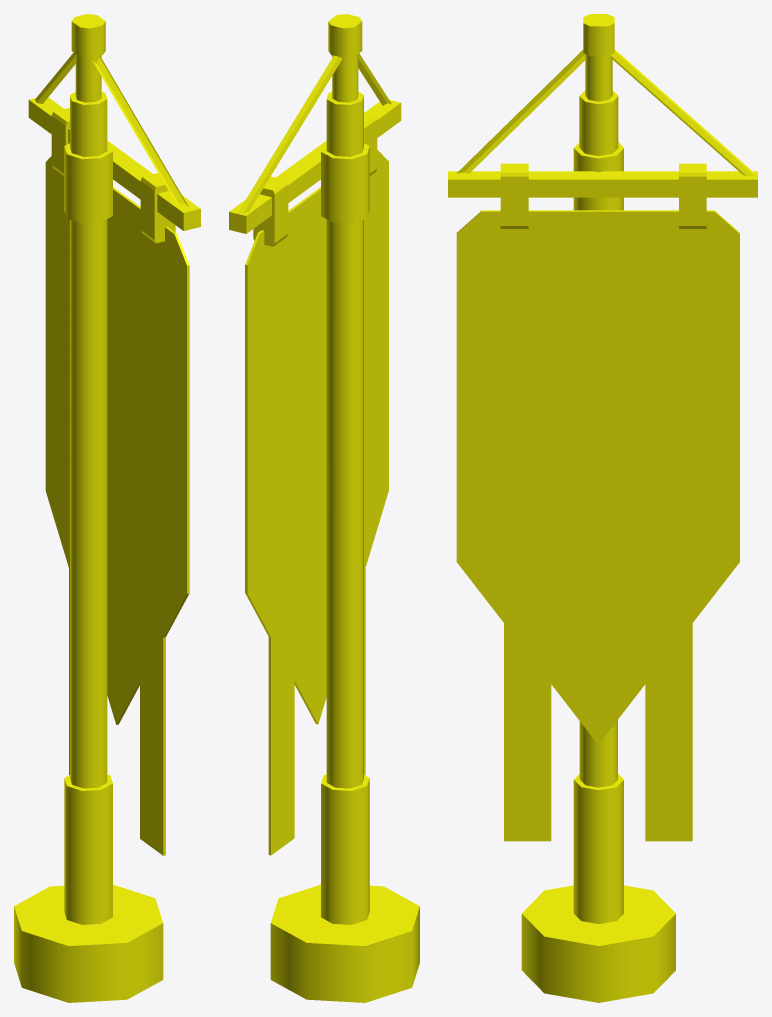
The model's file is claim-flag.glb.
3 renders of one model, left to right at view 1: azimuth 30°, elevation 25°; view 2: azimuth 150°, elevation 25°; view 3: azimuth 270°, elevation 25°, orthographic.
Parts seen in each view (by area): view 1: Flag1; view 2: Flag1; view 3: Flag1.
Boxes of the visible parts, <box> form: Flag1: <box>14,14,200,1002</box>; Flag1: <box>229,14,419,1002</box>; Flag1: <box>448,14,757,1002</box>.
Bounding box in the file's own units: 35.33 × 240 × 70.91.
